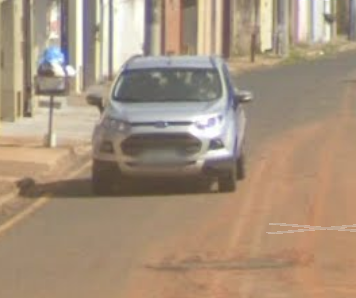car: (82, 39, 257, 203)
